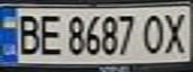6: (81, 12, 103, 56)
7: (115, 11, 142, 56)
8: (63, 12, 87, 56), (100, 12, 121, 56)
B: (12, 11, 42, 56)
E: (36, 11, 63, 57)
O: (139, 11, 169, 55)
X: (157, 9, 193, 55)
